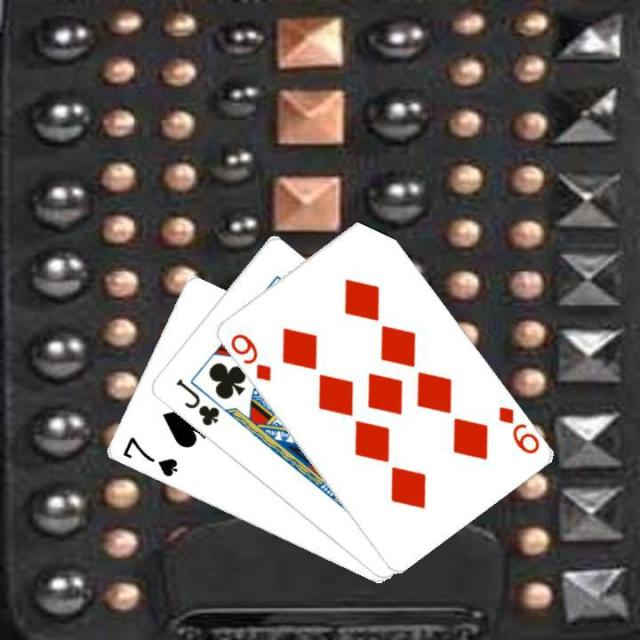7S: (118, 433, 180, 479)
9D: (226, 329, 273, 383), (494, 402, 540, 456)
JC: (172, 374, 222, 428)
